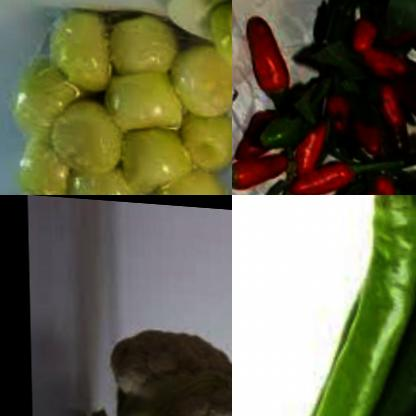cayliflower: (71, 317, 232, 416)
hot pepper: (252, 195, 416, 416), (259, 195, 416, 416), (242, 9, 293, 101), (284, 111, 335, 182), (327, 95, 385, 152), (232, 99, 282, 163), (232, 140, 291, 191), (282, 161, 362, 195), (381, 49, 416, 114), (358, 42, 411, 83), (334, 13, 381, 57), (372, 76, 408, 130), (351, 174, 405, 195)
onion: (28, 9, 232, 195), (209, 0, 232, 73)
